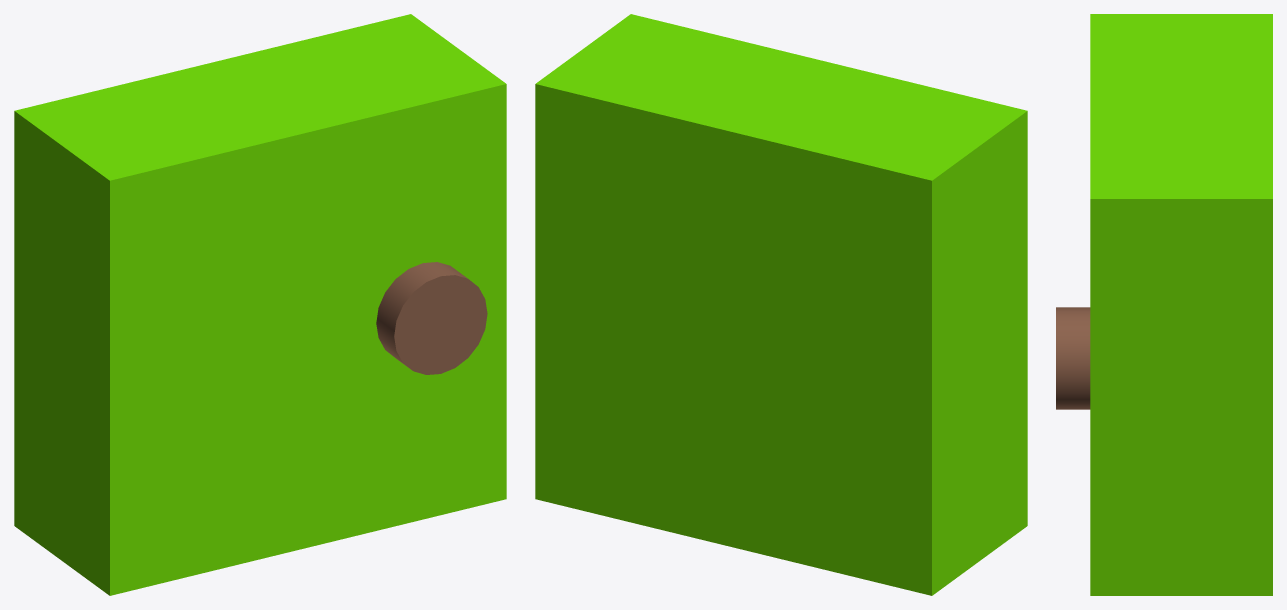
Rendered from Gimmic.fbx.
3 renders of one model, left to right at view 1: azimuth 30°, elevation 25°; view 2: azimuth 150°, elevation 25°; view 3: azimuth 270°, elevation 25°, orthographic. The views are drawn at different scales.
Visible parts, largest first — view 1: pCube2; view 2: pCube2; view 3: pCube2.
Part boxes in pixels (<box>): pCube2: <box>14,14,506,595</box>; pCube2: <box>535,14,1027,595</box>; pCube2: <box>1056,14,1272,595</box>.
Size of the model in its own units: 1 by 1 by 0.4954.
